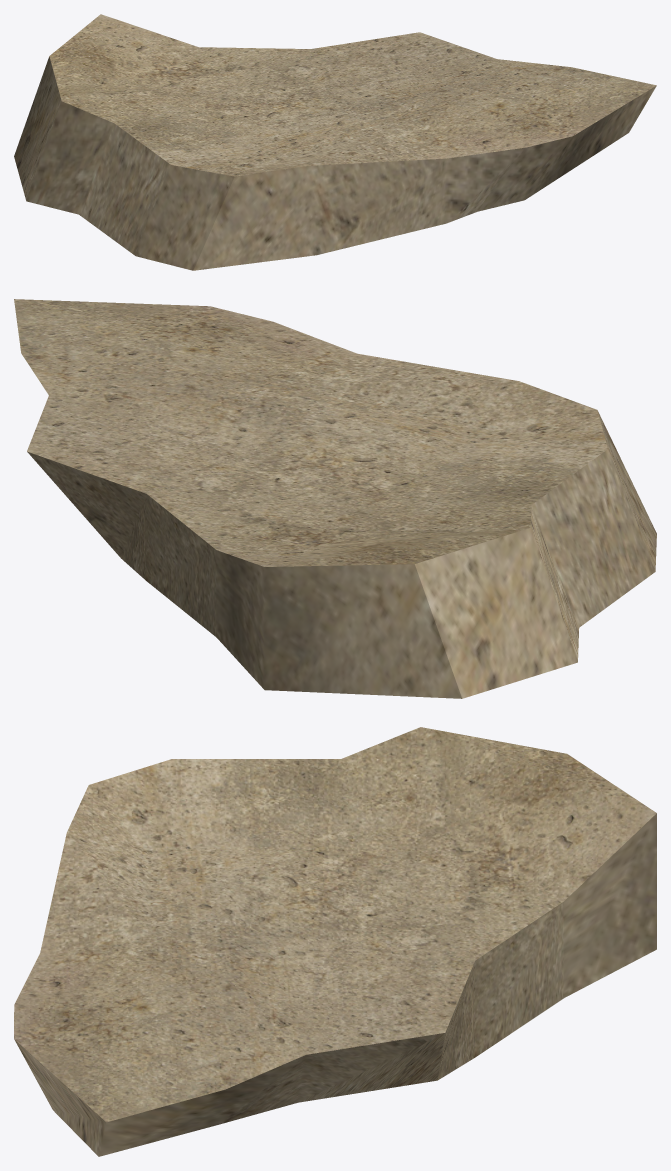
Rendered from ConChunk5.FBX.
3 renders of one model, top to bottom at view 1: azimuth 30°, elevation 25°; view 2: azimuth 150°, elevation 25°; view 3: azimuth 270°, elevation 25°, orthographic. The views are drawn at different scales.
Visible parts, largest first — view 1: Box02; view 2: Box02; view 3: Box02.
Part boxes in pixels (x1,y1,x2,y2): Box02: (14, 14, 656, 270); Box02: (14, 299, 656, 698); Box02: (14, 727, 656, 1156).
Size of the model in its own units: 2.53 by 0.4224 by 1.8.
